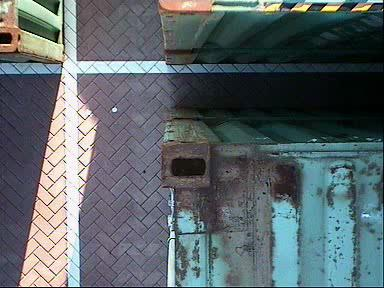groundmarker_2: (188, 24, 242, 95), (195, 256, 229, 288)
